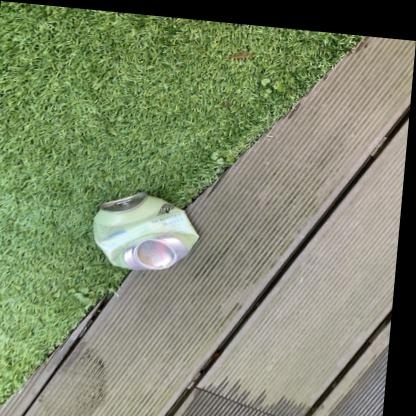trash: (93, 192, 198, 269)
